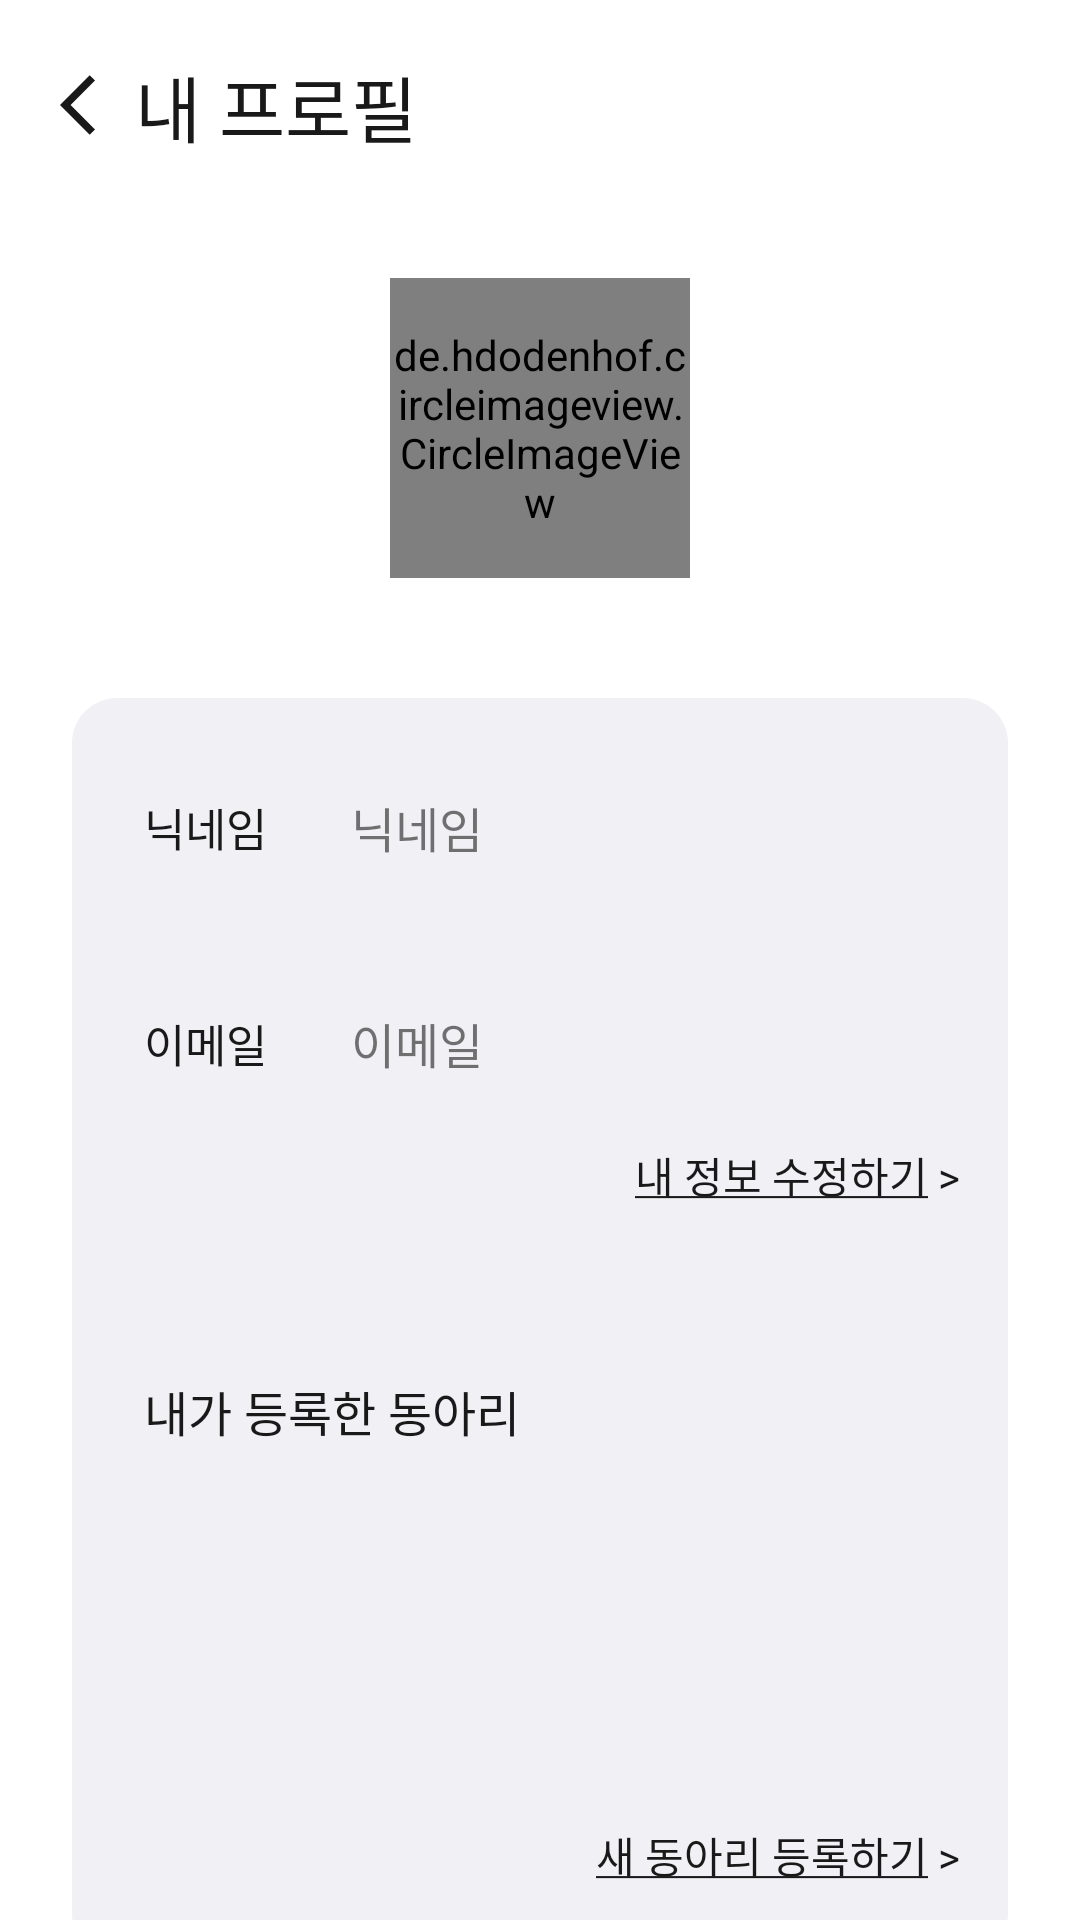

Icon bounding boxes for this 1080 × 1920 phone screenshot, format [x1=x1, y1=y1, x2=x2, y2=y2]:
arrow back: [x1=60, y1=75, x2=95, y2=135]
